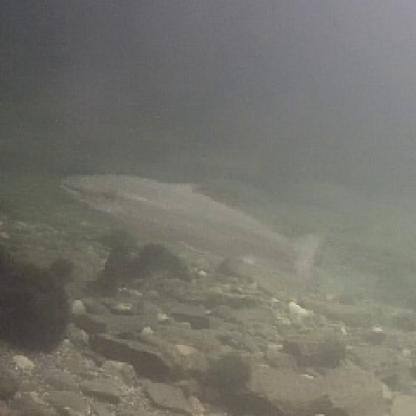salmon: (55, 166, 328, 284)
